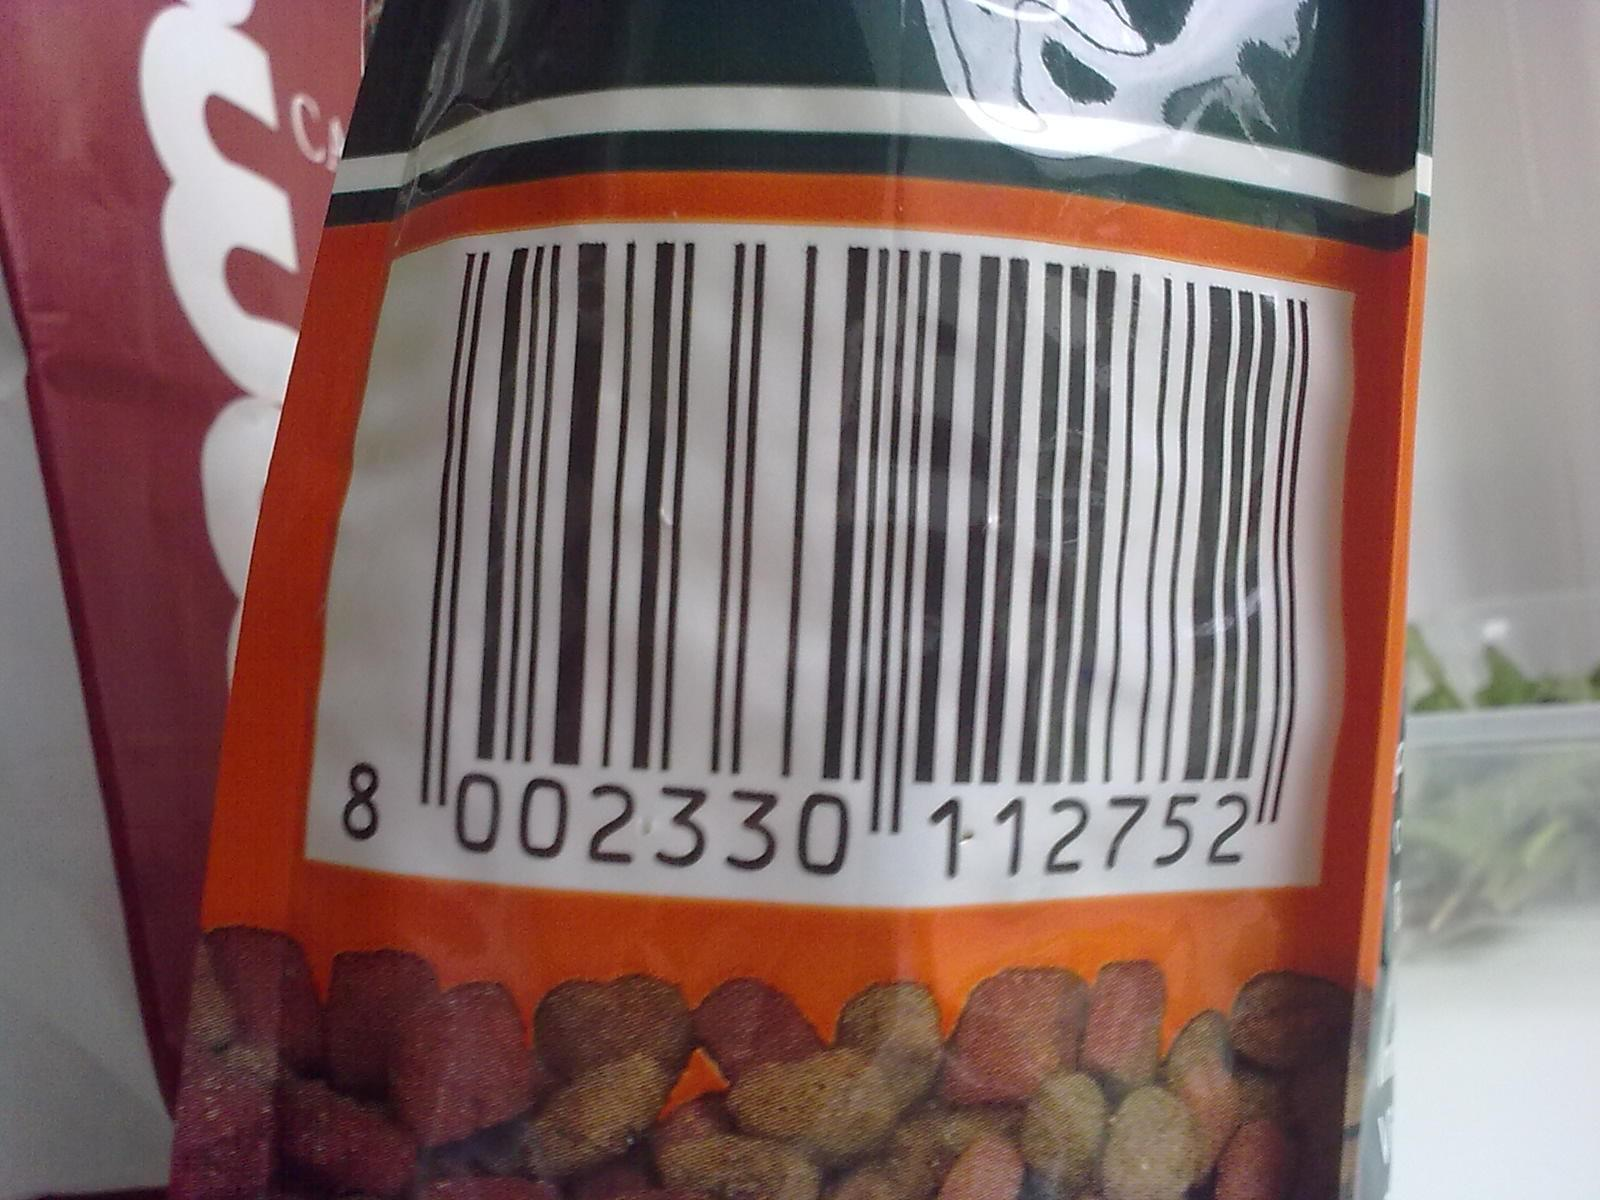Barcode: (312, 245, 1359, 894)
